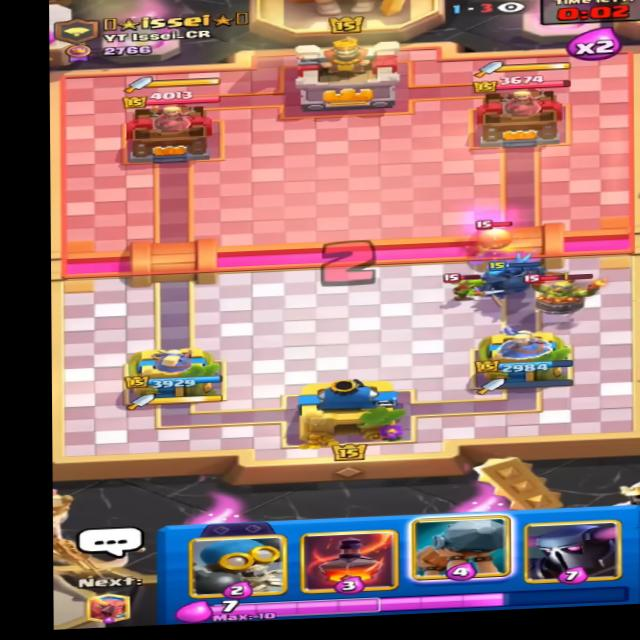goblin: (443, 271, 491, 302)
goblin-demolisher: (523, 260, 601, 317)
phoenix-egg: (469, 211, 518, 251)
